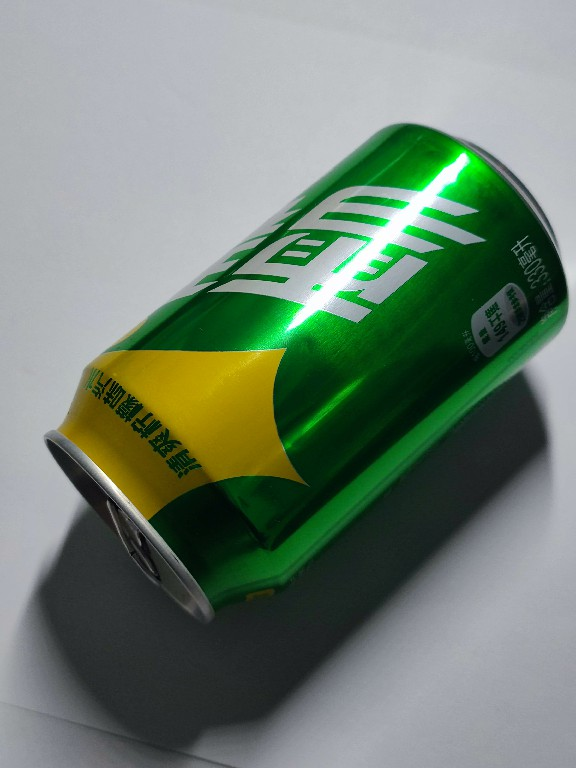can: (40, 116, 572, 630)
